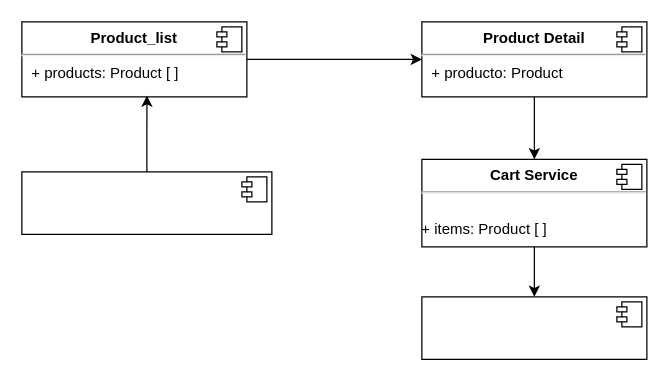
The diagram is 669 pixels wide and 381 high, and some of its shapes have lost their labels. The centre of each missing label's shape, as x and y in pixels:
Cart + items: Product [ ]: (534,327)
product:Product [ ] Listado de productos disponibles: (146,202)
